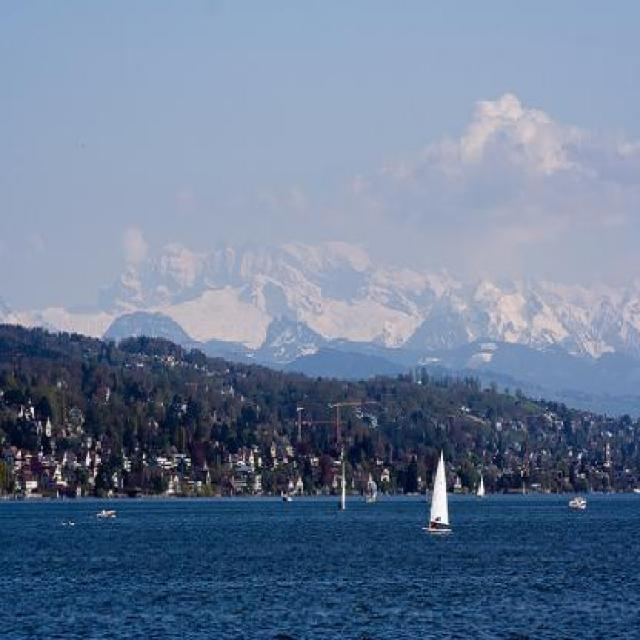ship: (418, 443, 454, 537)
